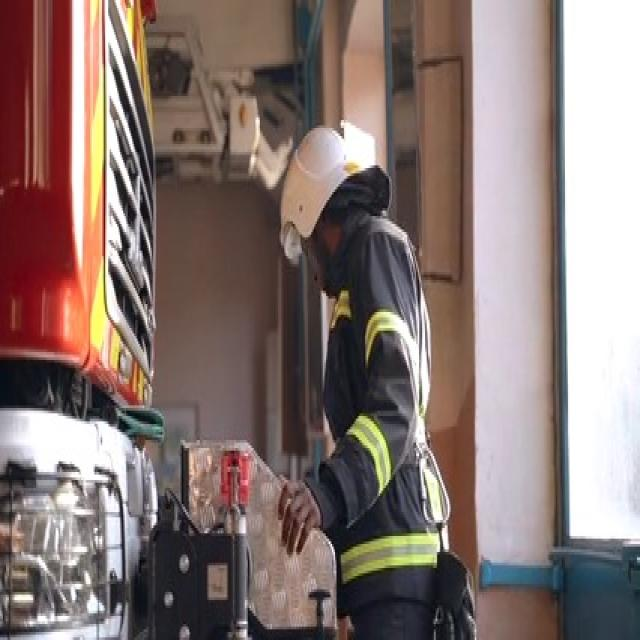Helmet_Wearer: (276, 116, 394, 283)
Jacket_Wearer: (318, 217, 448, 640)
Person: (271, 116, 464, 640)
